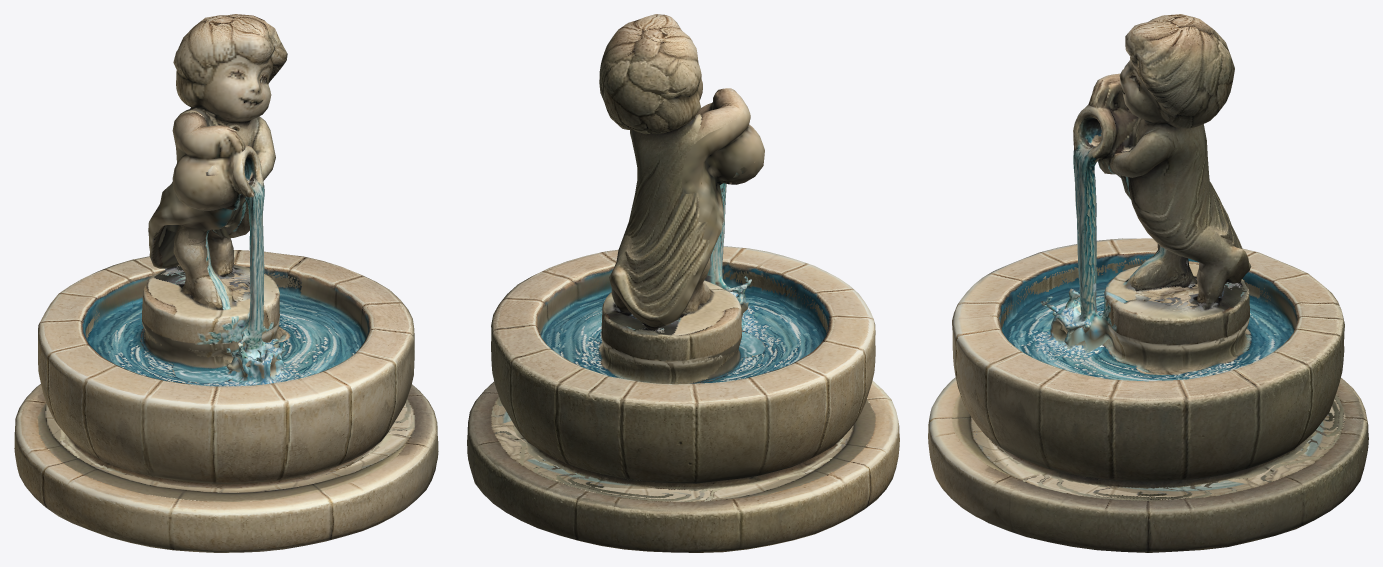
File: Fountain_Original.glb
The picture shows the model from 3 angles, left to right: view 1: azimuth 30°, elevation 25°; view 2: azimuth 150°, elevation 25°; view 3: azimuth 270°, elevation 25°; orthographic projection. The views are drawn at different scales.
Parts seen in each view (by area): view 1: texture_mapping; view 2: texture_mapping; view 3: texture_mapping.
Part boxes in pixels (x1,y1,x2,y2): texture_mapping: (14,14,438,552); texture_mapping: (467,14,899,552); texture_mapping: (928,14,1368,552).
Bounding box in the file's own units: 0.8884 × 0.9997 × 0.8882.
Materials: 1 (1 with a texture image).
